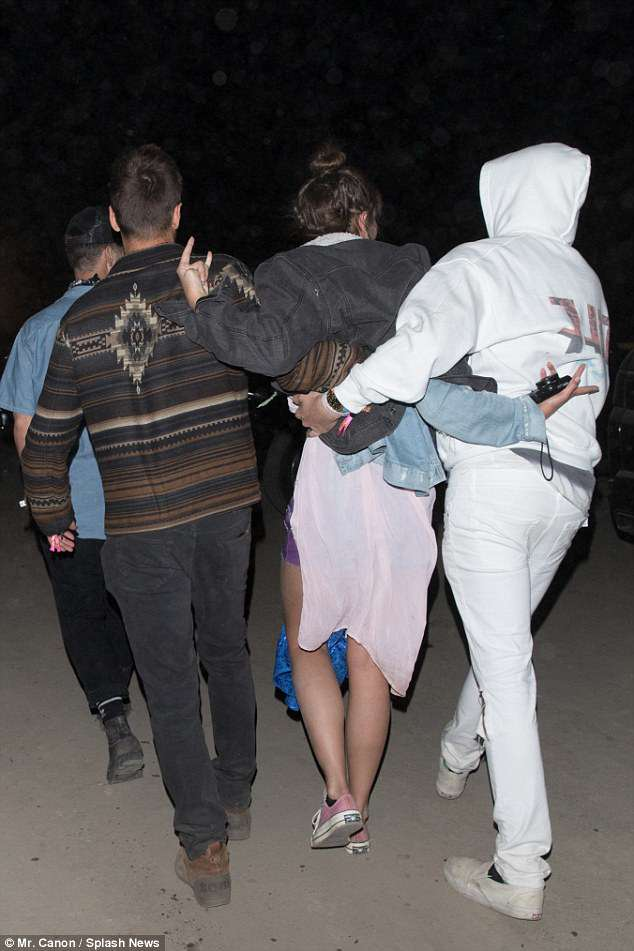Person: (175, 144, 602, 857), (293, 142, 612, 922), (21, 139, 265, 912)
